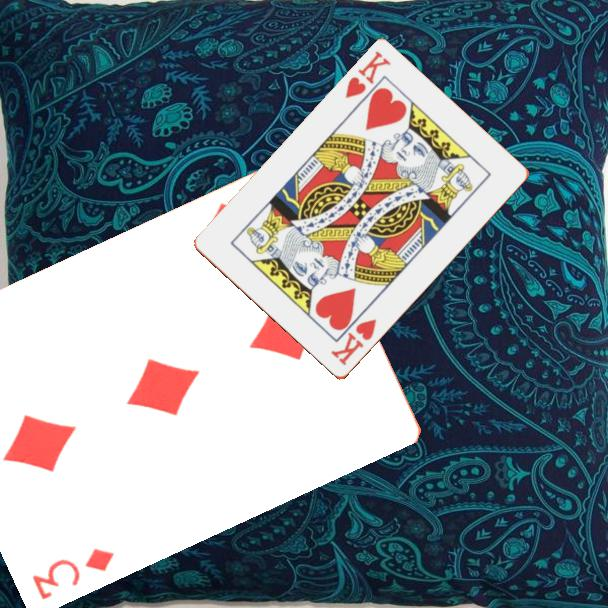d03: (29, 543, 118, 602)
h13: (327, 315, 380, 369), (342, 47, 394, 102)
